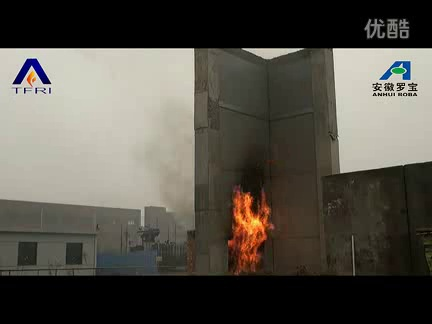fire: (227, 184, 276, 274)
